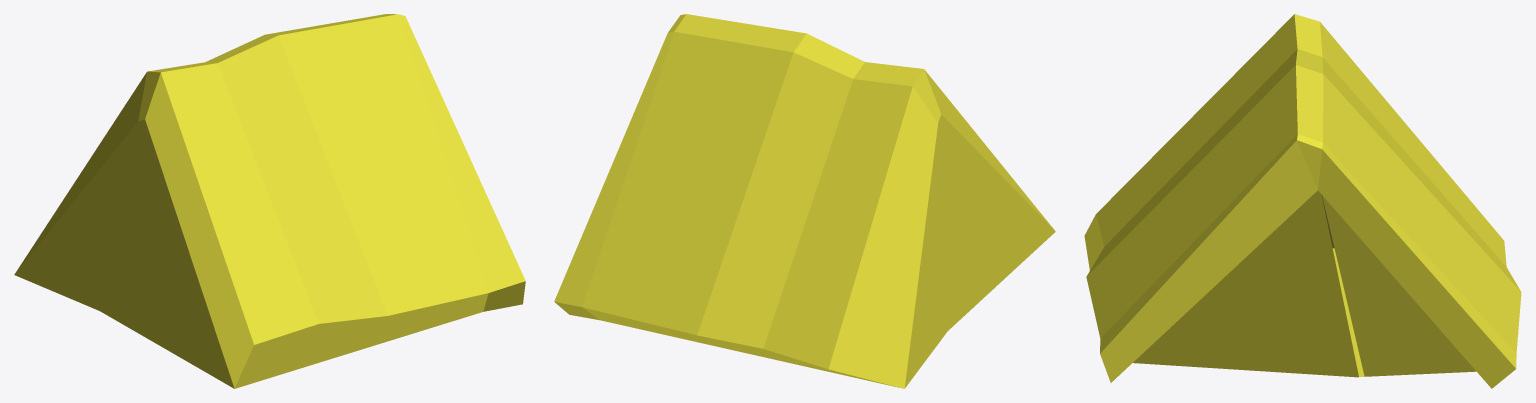
Rendered from tent.fbx.
3 renders of one model, left to right at view 1: azimuth 30°, elevation 25°; view 2: azimuth 150°, elevation 25°; view 3: azimuth 270°, elevation 25°, orthographic. The views are drawn at different scales.
Visible parts, largest first — view 1: Cube.002; view 2: Cube.002; view 3: Cube.002.
Part boxes in pixels (x1,y1,x2,y2): Cube.002: (14,14,525,388); Cube.002: (554,14,1055,388); Cube.002: (1084,14,1521,388).
Bounding box in the file's own units: 392 × 286 × 437.
